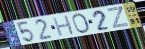2: (92, 8, 113, 33), (35, 18, 54, 41)
5: (15, 19, 36, 43)
H: (52, 14, 76, 38)
O: (71, 12, 92, 35)
Z: (106, 6, 131, 29)
